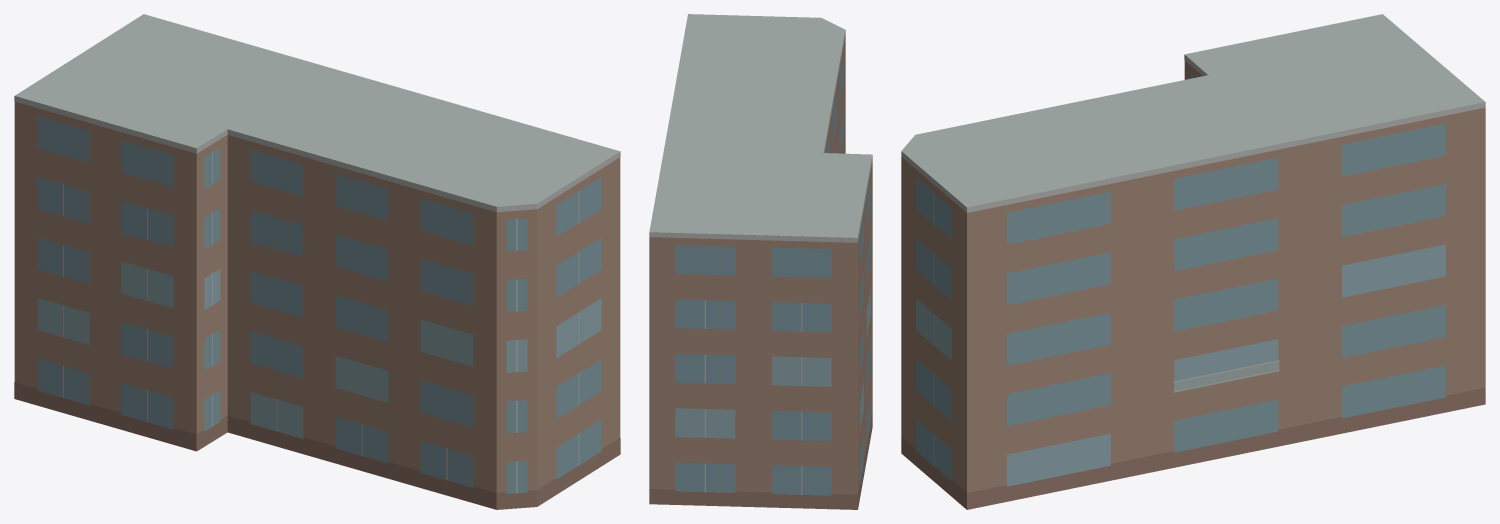
Rendered from survey-upis-32702390.glb.
The picture shows the model from 3 angles, left to right: view 1: azimuth 30°, elevation 25°; view 2: azimuth 150°, elevation 25°; view 3: azimuth 270°, elevation 25°; orthographic projection. The views are drawn at different scales.
Visible parts, largest first — view 1: survey-upis-32702390.tmp; view 2: survey-upis-32702390.tmp; view 3: survey-upis-32702390.tmp.
Part boxes in pixels (<box>): survey-upis-32702390.tmp: <box>14,14,620,509</box>; survey-upis-32702390.tmp: <box>649,14,872,509</box>; survey-upis-32702390.tmp: <box>901,14,1485,509</box>.
Size of the model in its own units: 18.48 by 13.45 by 23.57.
